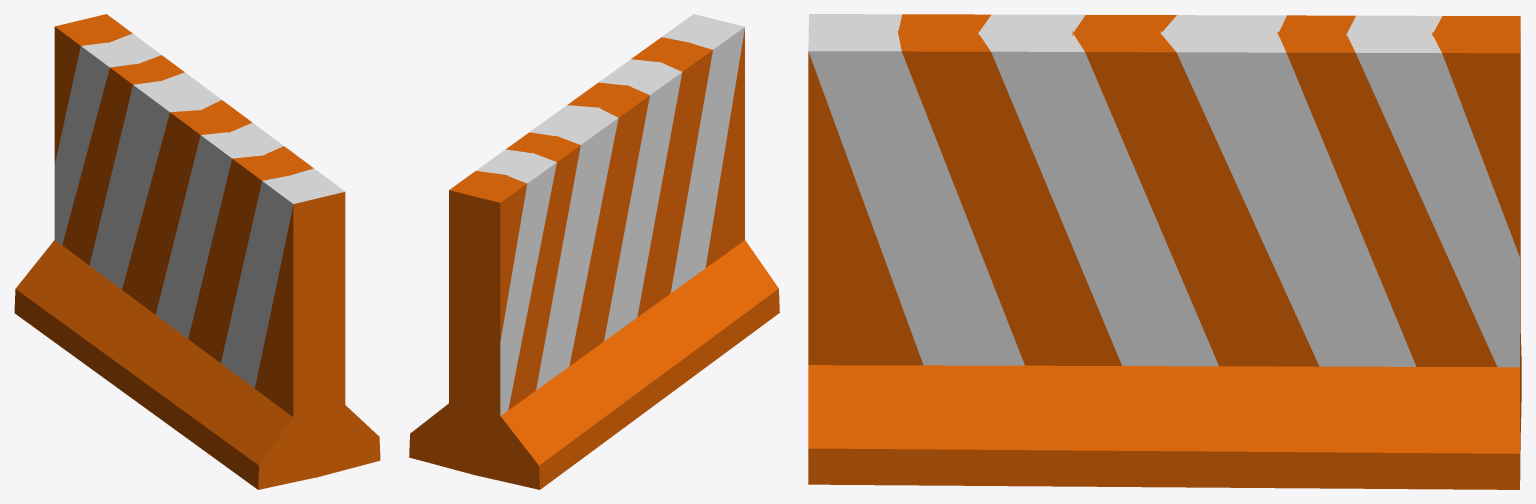
File: TrafficBarricade_HT.fbx
3 views of the same model, side by side, from view 1: azimuth 30°, elevation 25°; view 2: azimuth 150°, elevation 25°; view 3: azimuth 270°, elevation 25° (orthographic). The views are drawn at different scales.
Visible parts, largest first — view 1: Box003; view 2: Box003; view 3: Box003.
Part boxes in pixels (x1=…): Box003: x1=14, y1=14, x2=380, y2=489; Box003: x1=409, y1=14, x2=779, y2=489; Box003: x1=808, y1=14, x2=1521, y2=489.
Bounding box in the file's own units: 69.24 × 140 × 221.
